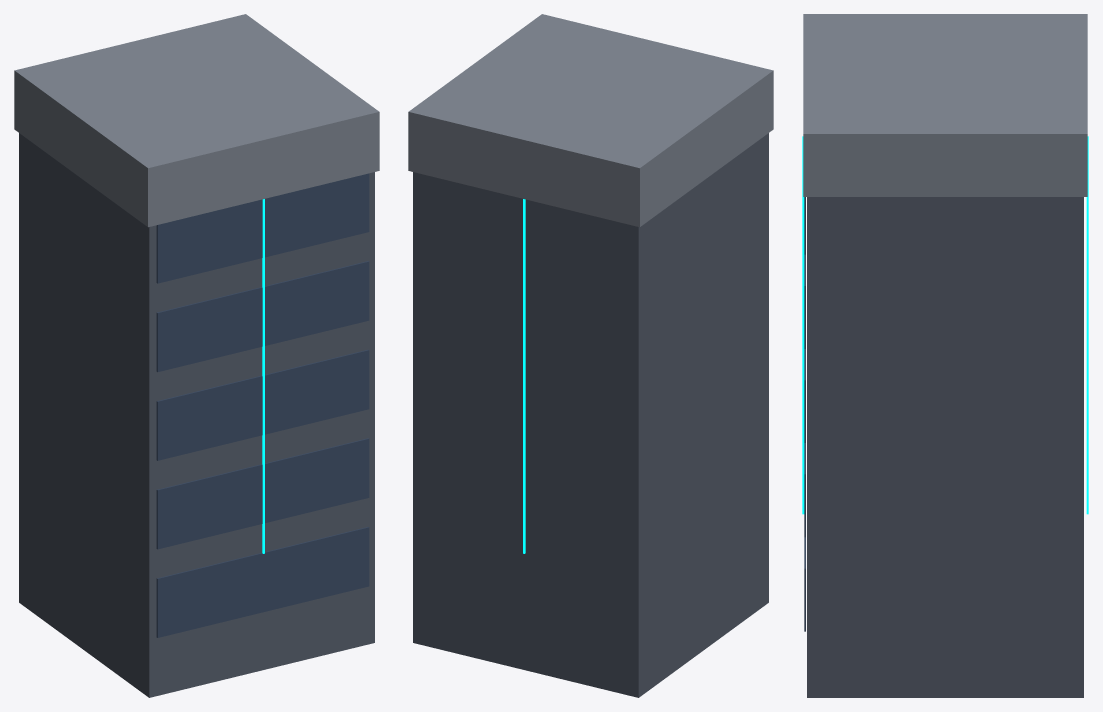
File: CORP_BLD_Annex_SM.glb
3 renders of one model, left to right at view 1: azimuth 30°, elevation 25°; view 2: azimuth 150°, elevation 25°; view 3: azimuth 270°, elevation 25°, orthographic. The views are drawn at different scales.
Parts seen in each view (by area): view 1: CORP_BLD_Annex_SM; view 2: CORP_BLD_Annex_SM; view 3: CORP_BLD_Annex_SM.
Boxes of the visible parts, x1,y1,x2,y2 form: CORP_BLD_Annex_SM: (14,14,379,697); CORP_BLD_Annex_SM: (408,14,773,697); CORP_BLD_Annex_SM: (802,14,1088,697).
Bounding box in the file's own units: 8.2 × 18 × 8.26.
